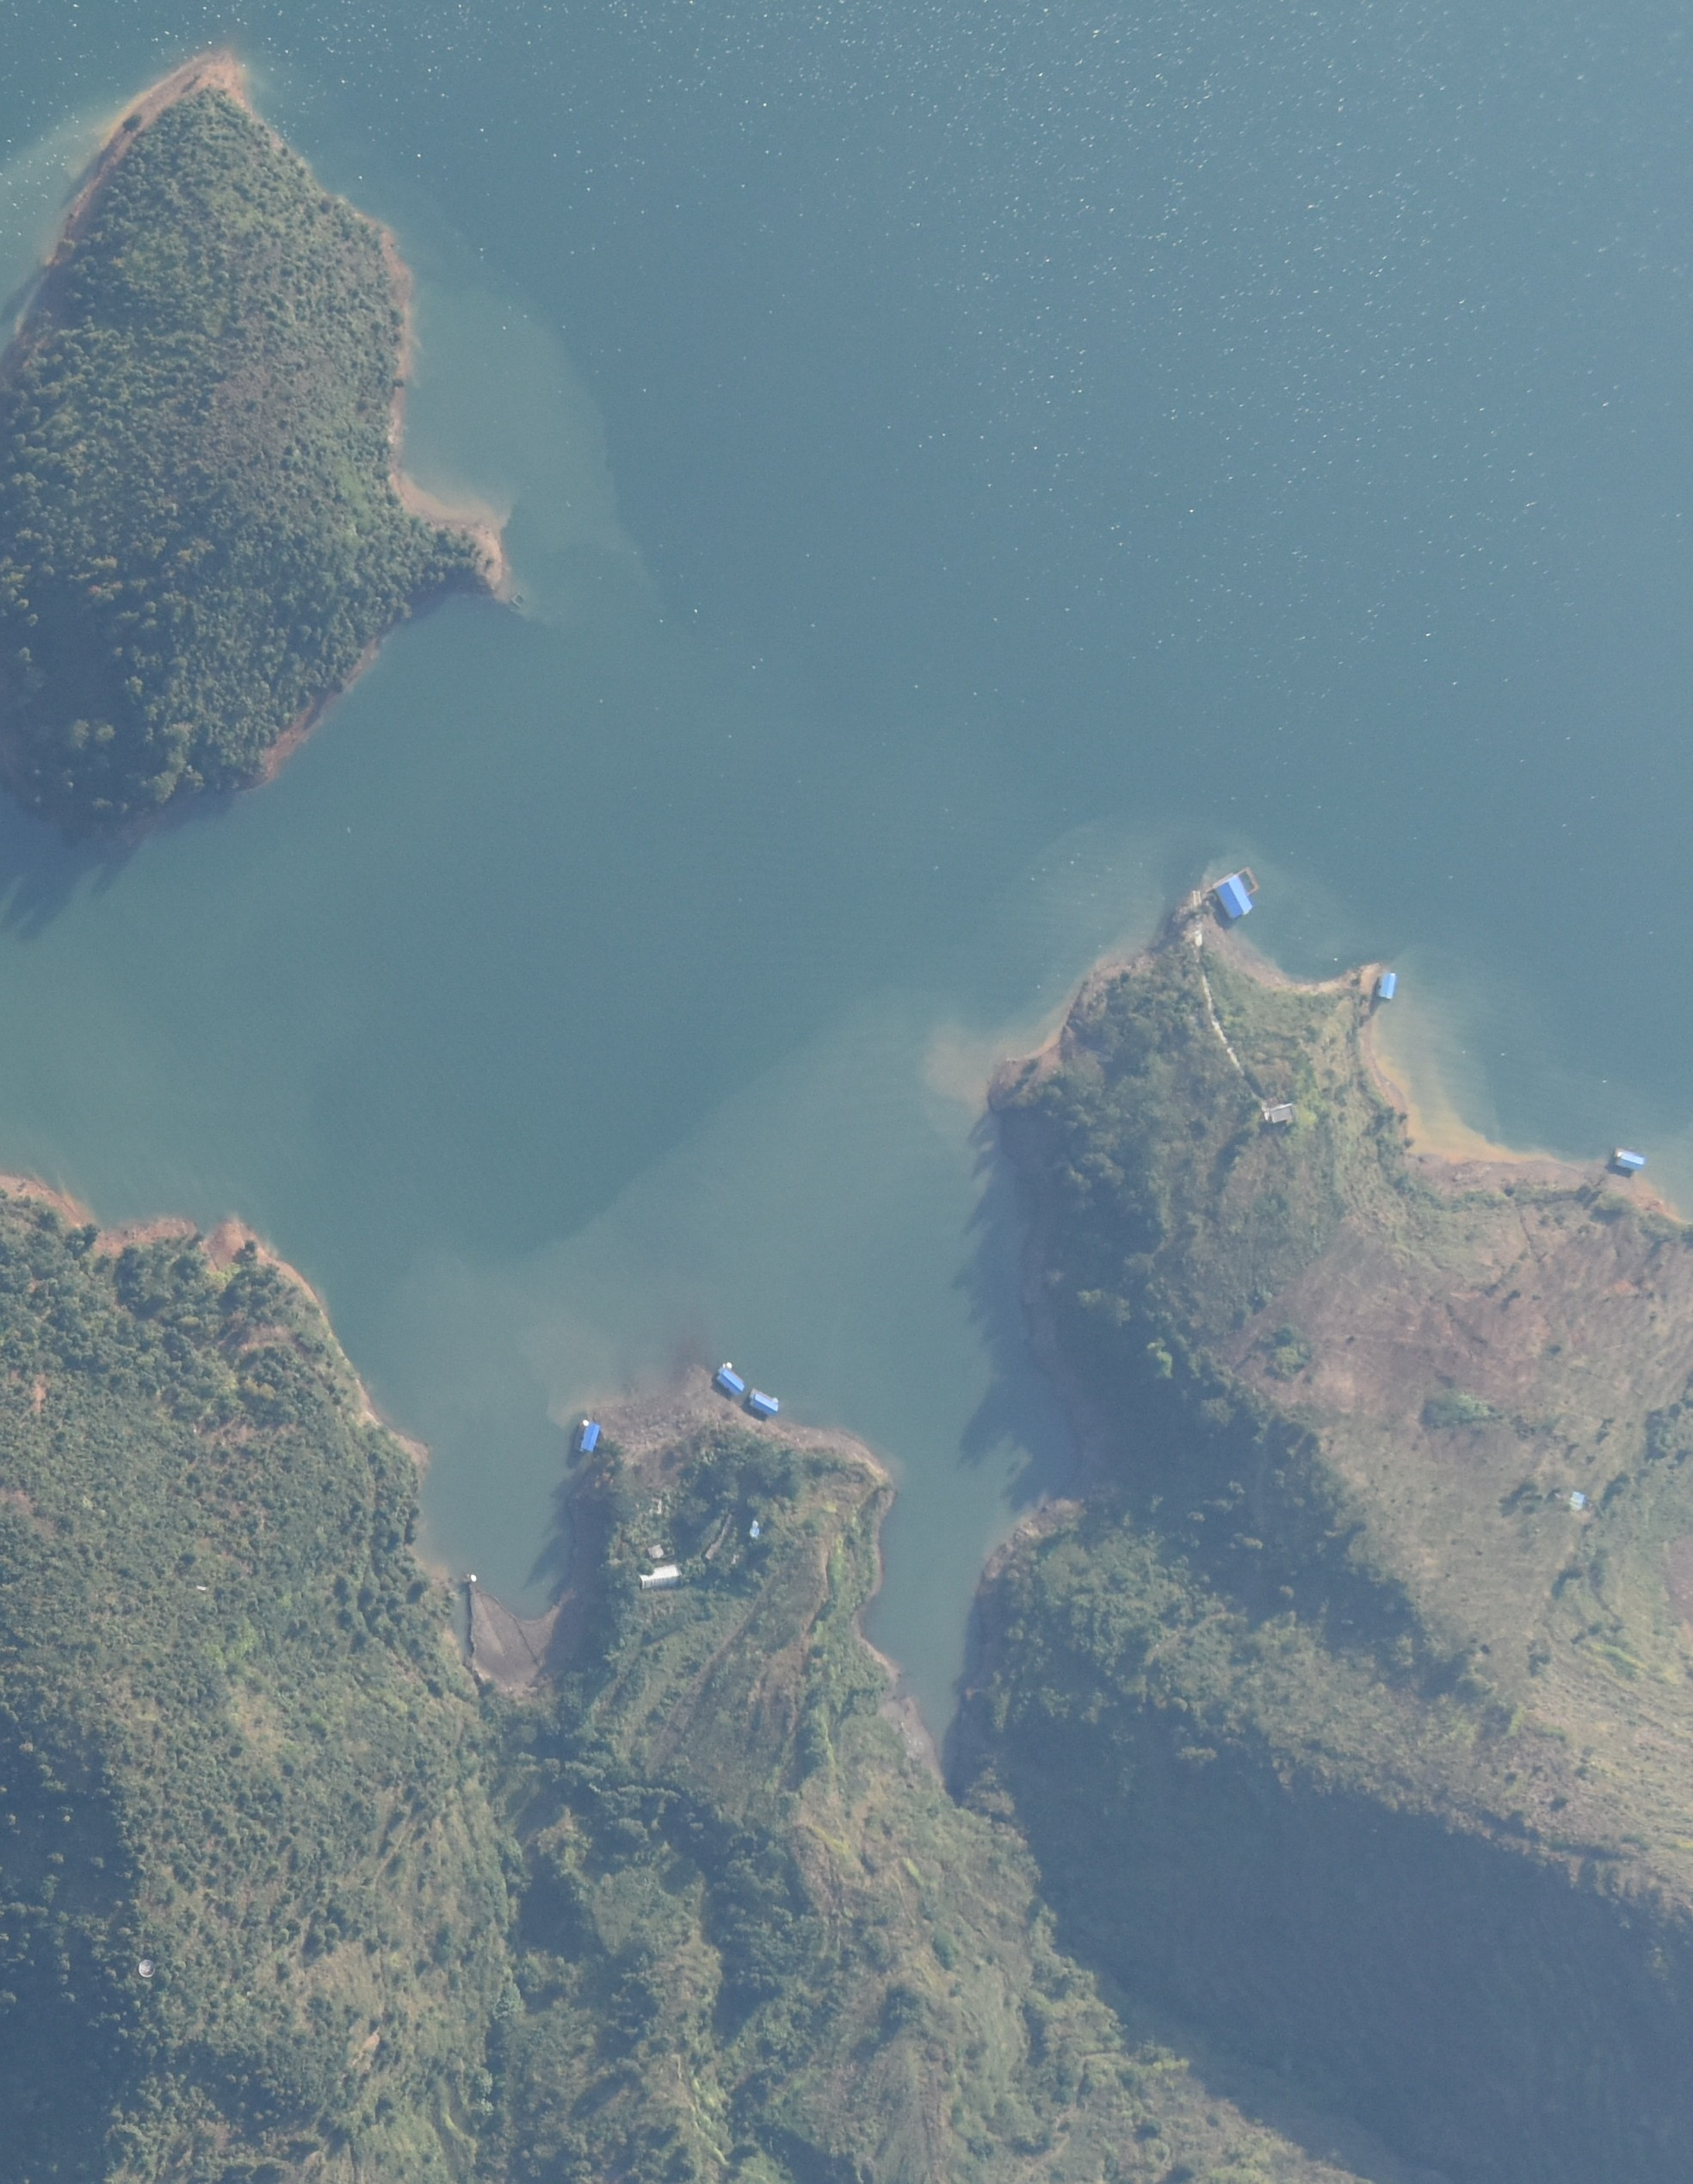prefabricated-house: (1213, 875, 1250, 919), (635, 1565, 682, 1588), (574, 1418, 598, 1457), (748, 1389, 780, 1416), (716, 1362, 743, 1393), (1263, 1101, 1294, 1124), (1613, 1149, 1645, 1172), (1377, 970, 1396, 999), (646, 1544, 665, 1560)
well: (137, 1956, 158, 1979)
